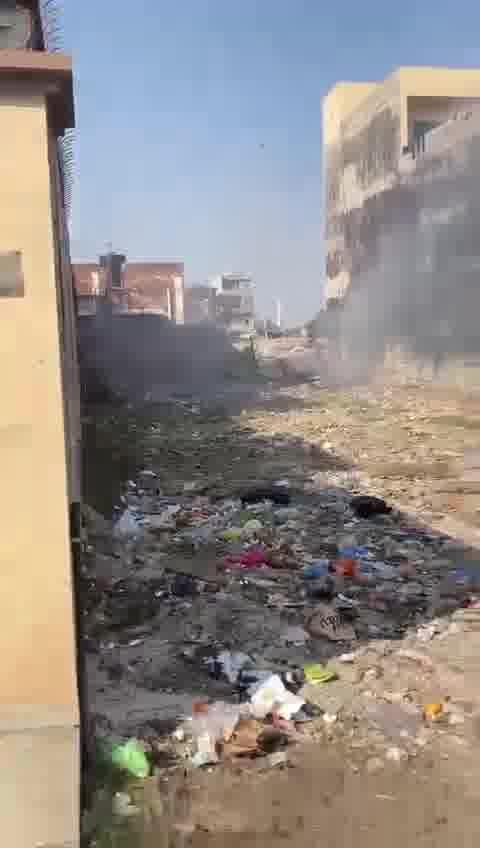garbage: (93, 406, 480, 770)
